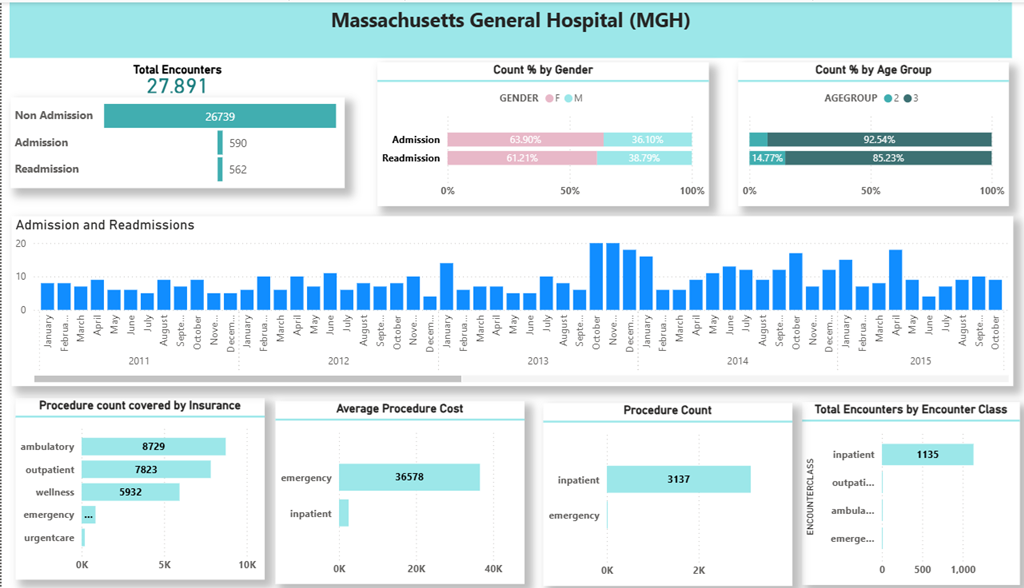

The page's visual inventory and layout, read from the dashboard file:
{"tool":"powerbi","page":{"name":"Admission - Readmission","canvas":[1280,720],"ordinal":1},"visuals":[{"type":"textbox","box":[9.8,0,1226.5,68],"z":0},{"type":"hundredPercentStackedBarChart","title":"Count % by Gender","fields":{"Series":["hospital_db patients.GENDER"],"Category":["hospital_db encounters.ADMISSIONTYPE"],"Y":["CountNonNull(hospital_db encounters.Id)"]},"box":[459.8,73.4,406,176.1],"z":1000},{"type":"hundredPercentStackedBarChart","title":"Count % by Age Group","fields":{"Series":["AgeGroup.AGEGROUP"],"Category":["hospital_db encounters.ADMISSIONTYPE"],"Y":["CountNonNull(hospital_db encounters.Id)"]},"box":[901.2,73.4,331.4,176.1],"z":2000},{"type":"barChart","title":"Total Encounters by Encounter Class","fields":{"Category":["hospital_db encounters.ENCOUNTERCLASS"],"Y":["CountNonNull(hospital_db encounters.LENGTHOFSTAY)"]},"box":[979.5,489.1,266.6,223.8],"z":3000},{"type":"barChart","title":"Procedure Count","fields":{"Category":["hospital_db encounters.ENCOUNTERCLASS"],"Y":["CountNonNull(hospital_db procedures.CODE)"]},"box":[662.8,490.4,304.5,223.8],"z":4000},{"type":"barChart","title":"Procedure count covered by Insurance","fields":{"Category":["hospital_db encounters.ENCOUNTERCLASS"],"Y":["CountNonNull(hospital_db procedures.ENCOUNTER)"]},"box":[17.1,484.2,304.5,222.6],"z":5000},{"type":"barChart","title":"Average Procedure Cost","fields":{"Category":["hospital_db encounters.ENCOUNTERCLASS"],"Y":["Avg(hospital_db procedures.BASE_COST)"]},"box":[335.1,487.9,304.5,223.8],"z":6000},{"type":"card","title":"Total Encounters","fields":{"Values":["CountNonNull(hospital_db encounters.Id)"]},"box":[19.6,73.4,391.3,42.8],"z":7000},{"type":"funnel","fields":{"Y":["CountNonNull(hospital_db encounters.Id)"],"Category":["hospital_db encounters.ADMISSIONTYPE"]},"box":[11,116.2,408.4,111.3],"z":8000},{"type":"columnChart","title":"Admission and Readmissions","fields":{"Y":["Measure.Count (Admission Readmission)"],"Category":["DateTable.Year","DateTable.Month Name"]},"box":[12.2,261.7,1225.3,207.9],"z":9000}]}

Visuals, with their boxes in screenshot pixels (x1, y1, x2, y2), scaled from the page's 1280x720 canvas onto the 1024x588 screenshot:
textbox: l=8, t=0, r=989, b=56
"Count % by Gender" hundredPercentStackedBarChart: l=368, t=60, r=693, b=204
"Count % by Age Group" hundredPercentStackedBarChart: l=721, t=60, r=986, b=204
"Total Encounters by Encounter Class" barChart: l=784, t=399, r=997, b=582
"Procedure Count" barChart: l=530, t=400, r=774, b=583
"Procedure count covered by Insurance" barChart: l=14, t=395, r=257, b=577
"Average Procedure Cost" barChart: l=268, t=398, r=512, b=581
"Total Encounters" card: l=16, t=60, r=329, b=95
funnel - CountNonNull(hospital_db encounters.Id) x hospital_db encounters.ADMISSIONTYPE: l=9, t=95, r=336, b=186
"Admission and Readmissions" columnChart: l=10, t=214, r=990, b=384
